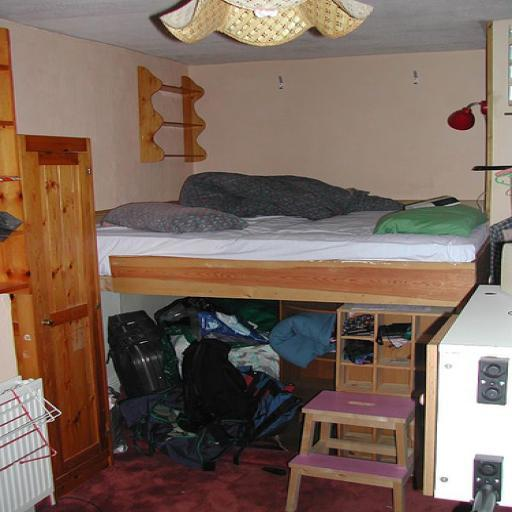bed: (56, 116, 512, 342)
